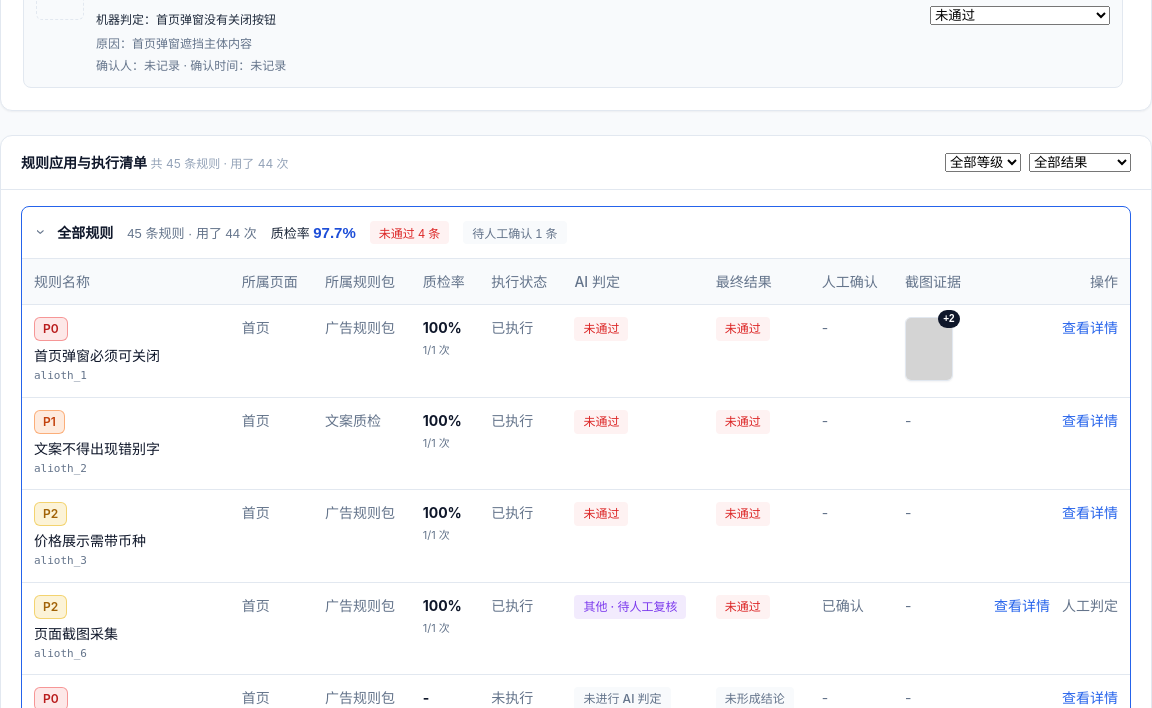
Test: ReportCenterView 报告详情 › 截图证据列显示首张缩略图与「+N」，大图查看器翻到头不循环
(page scrolled)
Click the button "+2" at (929, 349), box [905, 317, 953, 381]
(page scrolled)
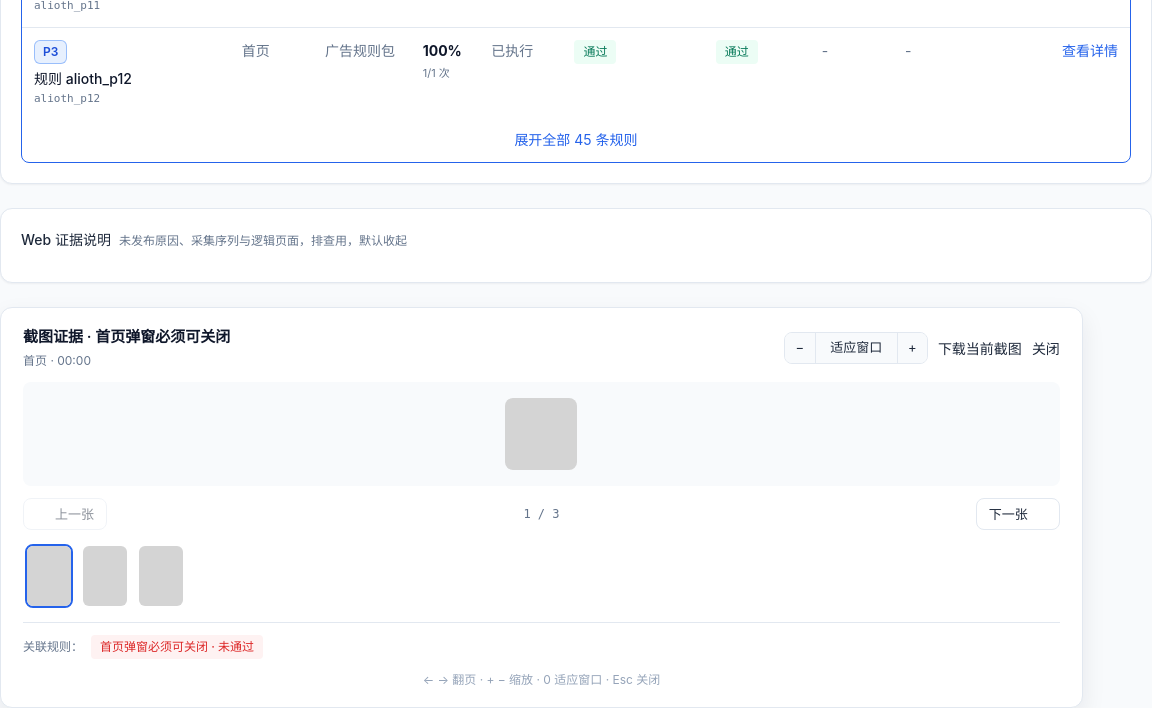
Expected: the element with test id "shot-viewer" shows "截图证据 · 首页弹窗必须可关闭", [23, 327, 230, 346]
Expected: the text with test id "viewer-count" reads "1 / 3", [523, 507, 560, 521]
Expected: the button with test id "viewer-prev" is disabled, [23, 498, 107, 530]
Click the button with test id "viewer-next" at (1018, 514), box [976, 498, 1060, 530]
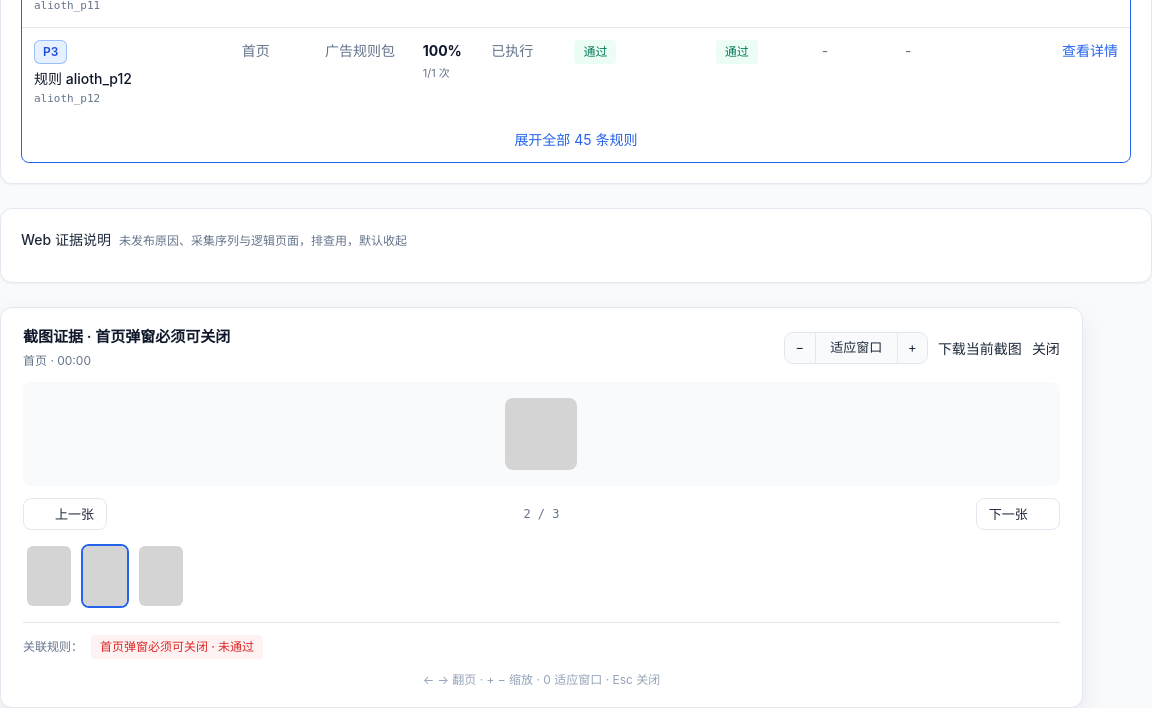
Click the button with test id "viewer-next" at (1018, 514), box [976, 498, 1060, 530]
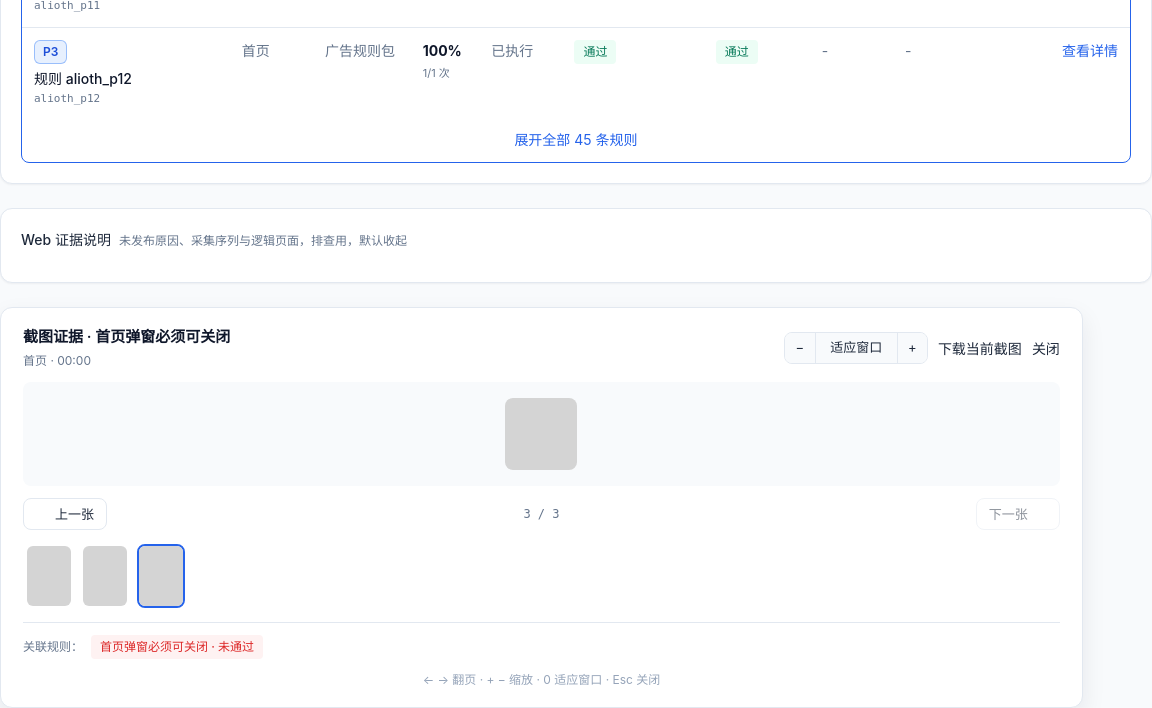
Expected: the button with test id "viewer-next" is disabled, [976, 498, 1060, 530]
Expected: the text with test id "viewer-count" reads "3 / 3", [523, 507, 560, 521]
Click the button with test id "viewer-prev" at (65, 514), box [23, 498, 107, 530]
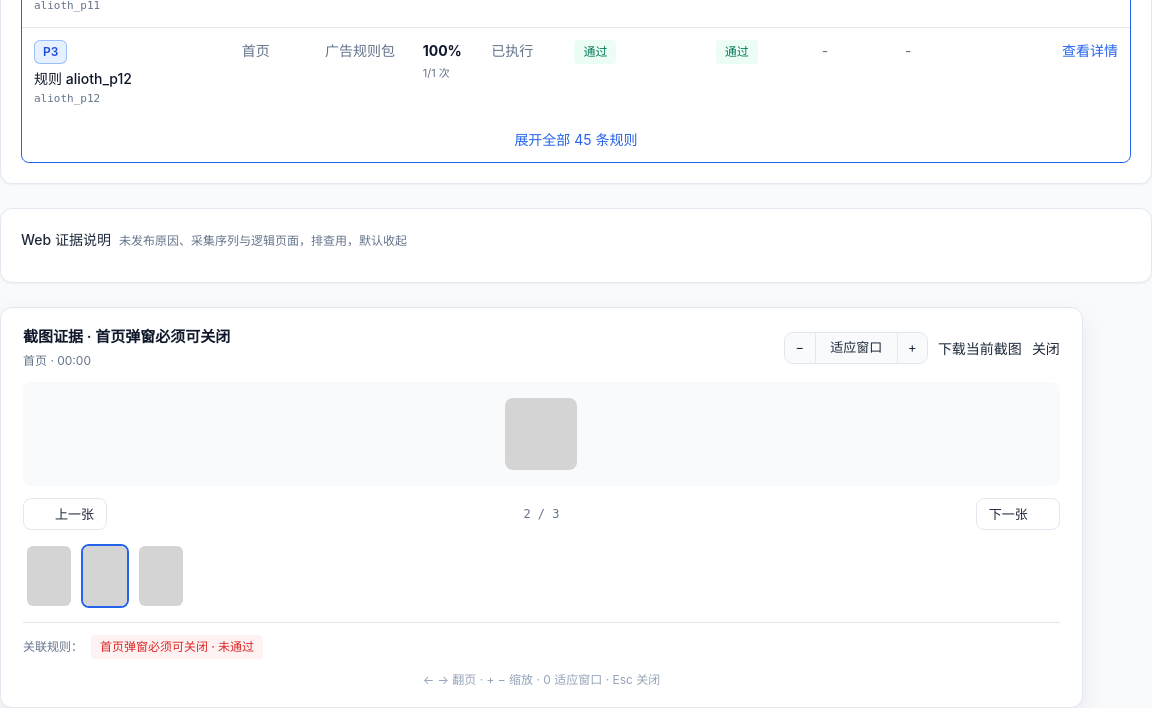
Expected: the element with test id "viewer-zoom" is shown, [784, 332, 928, 364]
Expected: the element with test id "shot-viewer" shows "下载当前截图", [938, 340, 1022, 356]
Expected: the text with test id "viewer-count" reads "2 / 3", [523, 507, 560, 521]
